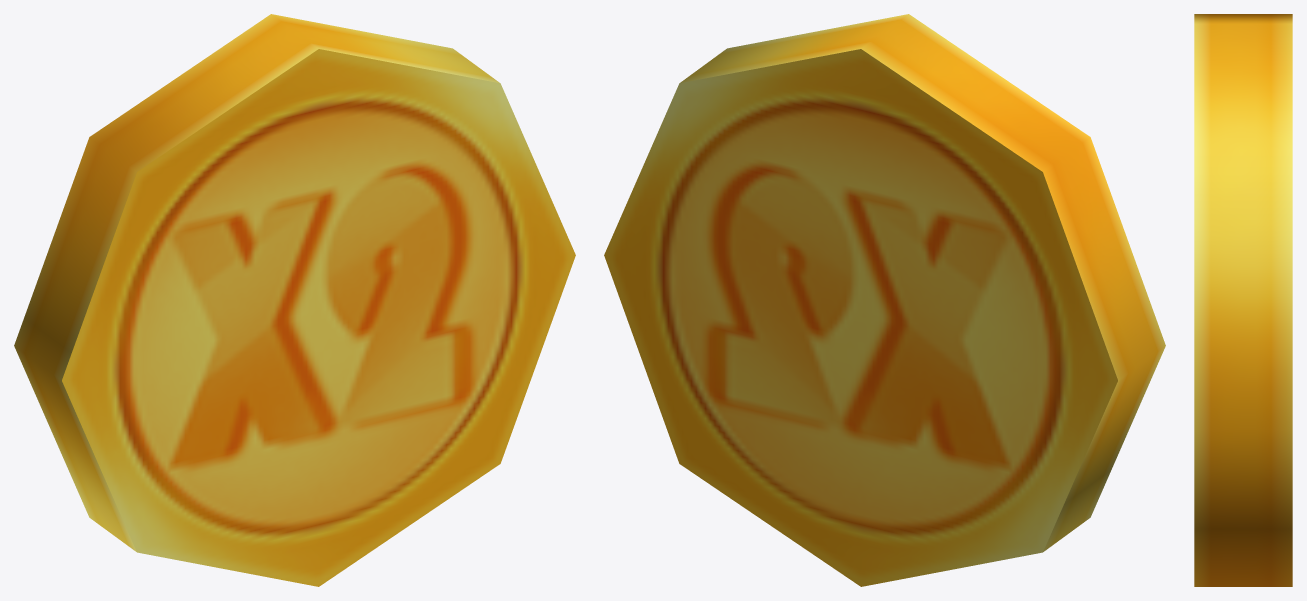
Rendered from JinBi_02.FBX.
The picture shows the model from 3 angles, left to right: view 1: azimuth 30°, elevation 25°; view 2: azimuth 150°, elevation 25°; view 3: azimuth 270°, elevation 25°; orthographic projection. The views are drawn at different scales.
Parts seen in each view (by area): view 1: jinbi_02; view 2: jinbi_02; view 3: jinbi_02.
Part boxes in pixels (x1,y1,x2,y2): jinbi_02: (14,14,575,586); jinbi_02: (604,14,1165,586); jinbi_02: (1194,14,1292,586).
Bounding box in the file's own units: 42.84 × 42.84 × 6.89.
